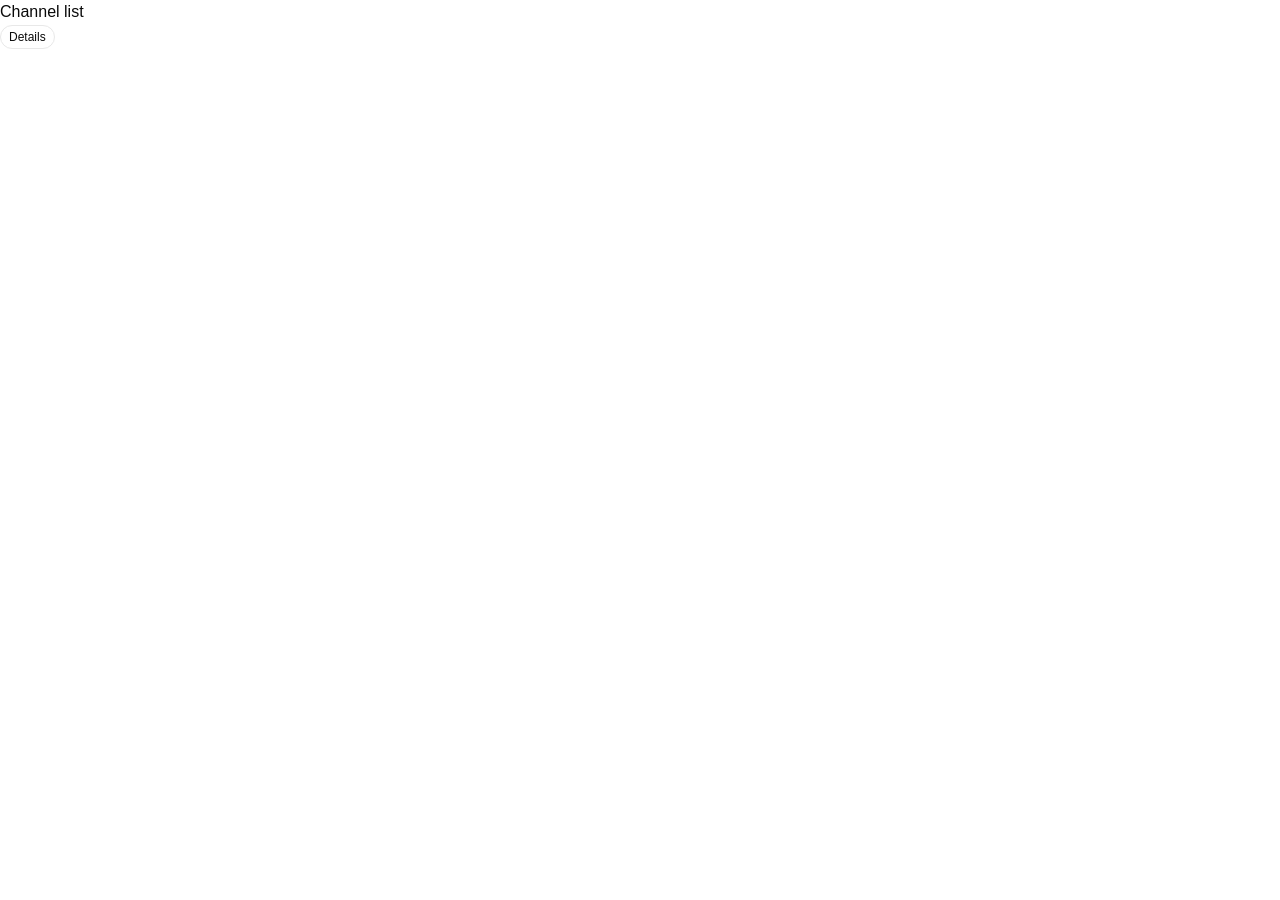
a channel shows its latest requests and opens the usage log filtered by it
Later steps or results of the test are not shown.
Expected: the heading "Channel list" is shown, x1=0 y1=3 x2=84 y2=20
Click the button with aria-label "Details of prod".
click(27, 37)  # box x1=0 y1=25 x2=55 y2=49
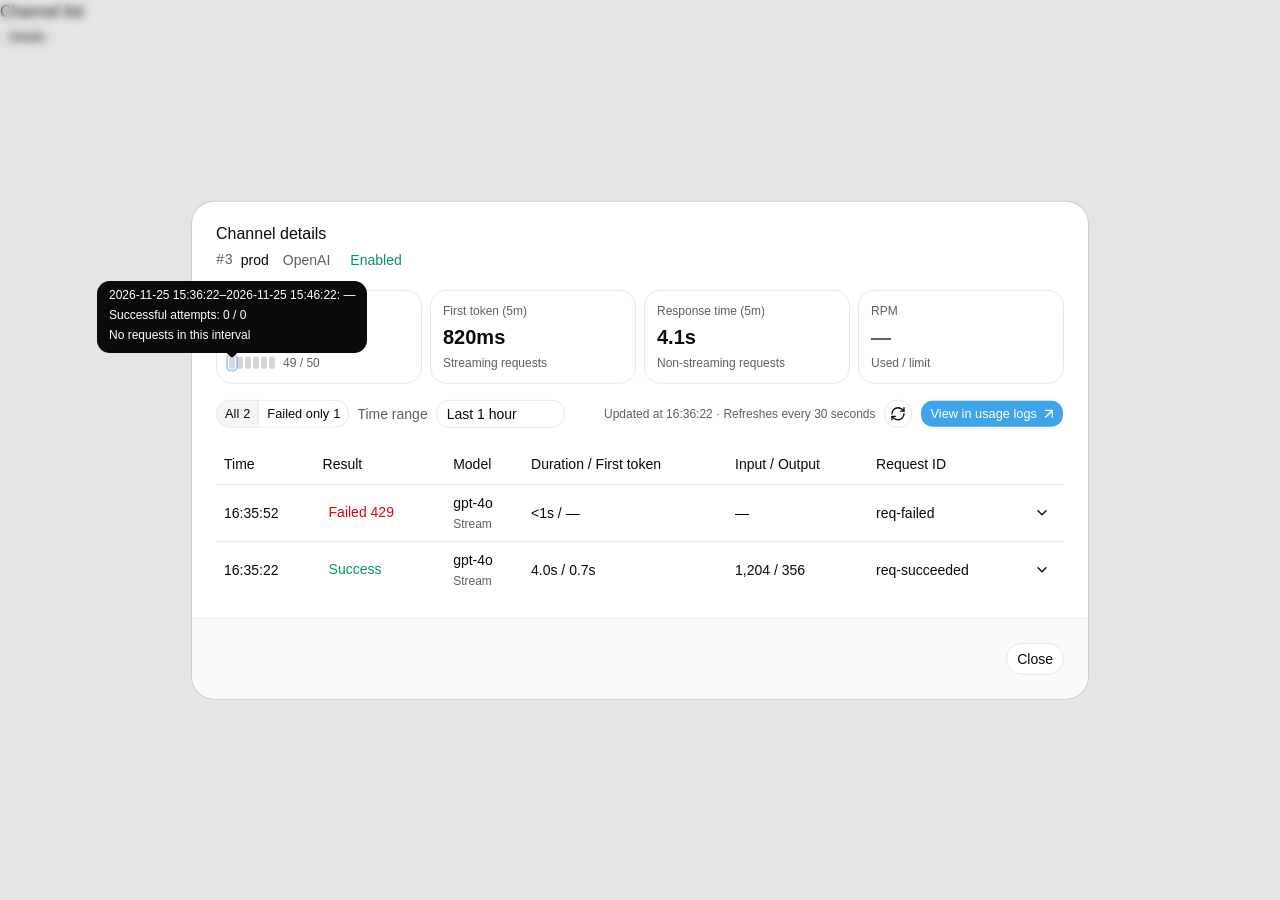
Expected: the text "prod" is shown, x1=241 y1=250 x2=269 y2=270
Expected: the text "98%" is shown, x1=229 y1=326 x2=269 y2=348
Expected: the text "820ms" is shown, x1=443 y1=326 x2=505 y2=348
Note: A failed request explains itself without leaving the page.
Click the button named "Show details" in the row of "16:35:52".
click(1042, 512)  # box x1=1028 y1=498 x2=1056 y2=526
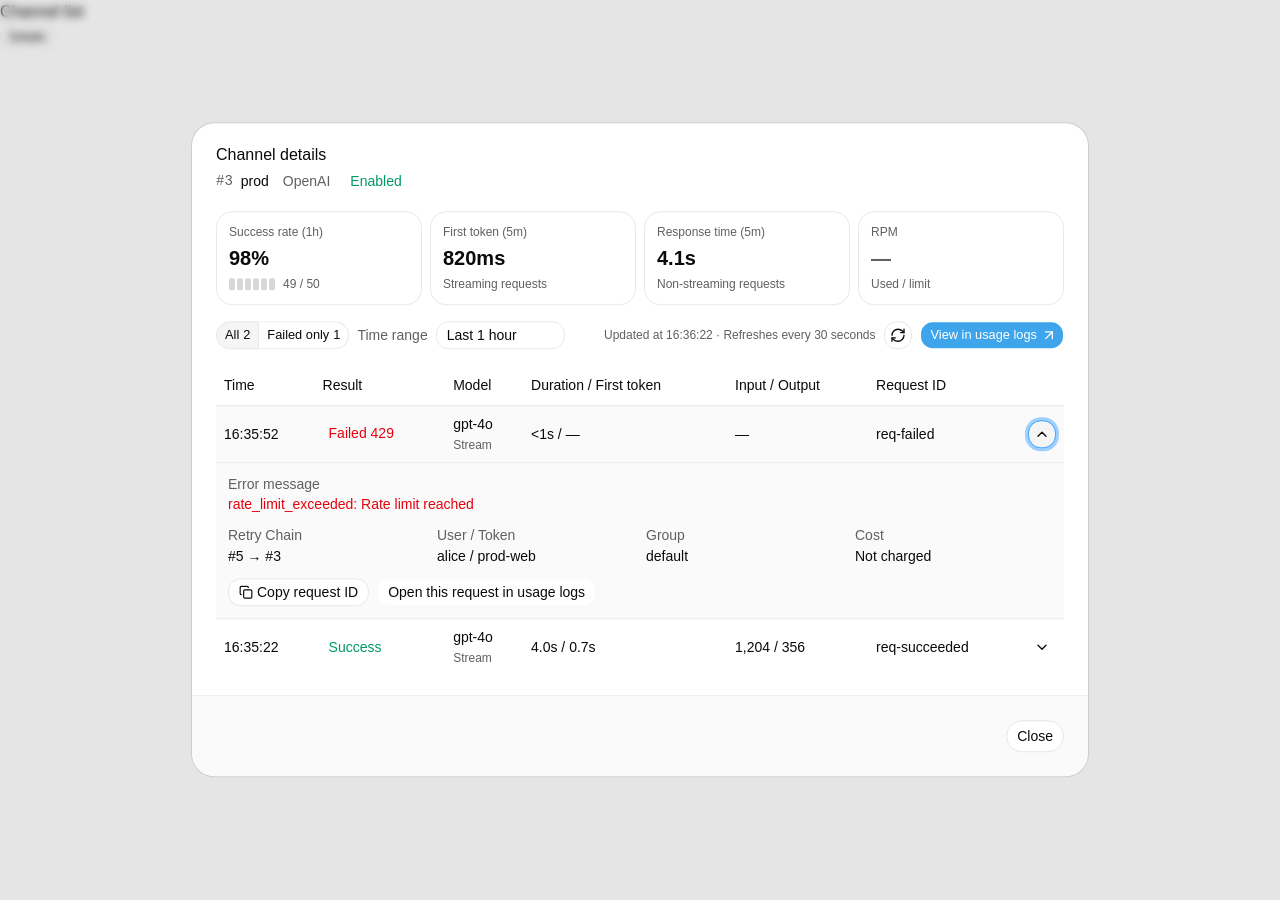
Expected: the text "rate_limit_exceeded: Rate limit reached" is shown, x1=228 y1=496 x2=474 y2=512
Expected: the text "#5 → #3" is shown, x1=228 y1=549 x2=281 y2=565
Expected: the text "alice / prod-web" is shown, x1=437 y1=549 x2=536 y2=565
Click the button named "Hide details".
click(1042, 434)  # box x1=1028 y1=420 x2=1056 y2=448
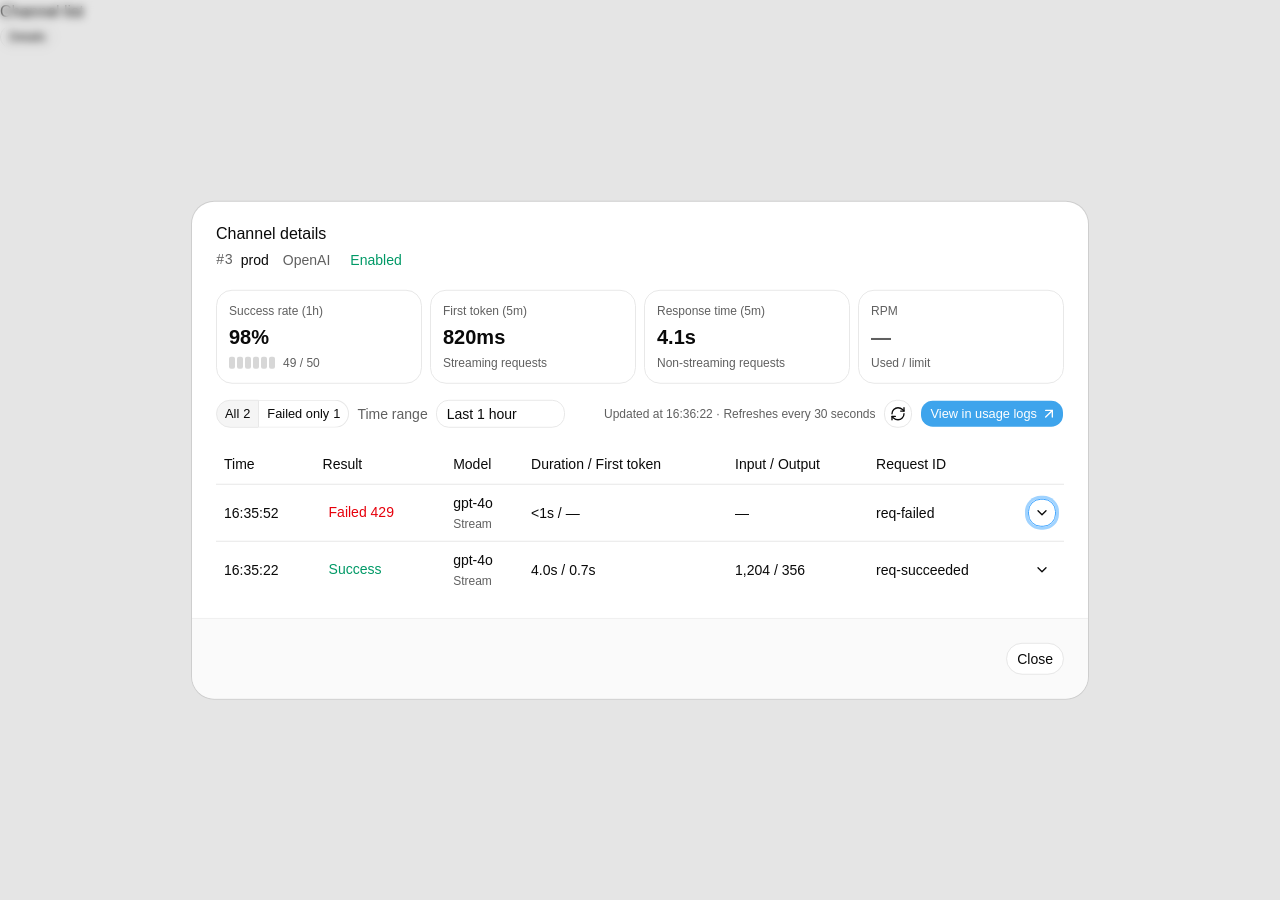
Expected: the text "#5 → #3" is gone
Note: Narrowing to failures reads nothing new.
Click the button "Failed only 1".
click(304, 414)  # box x1=259 y1=400 x2=349 y2=428
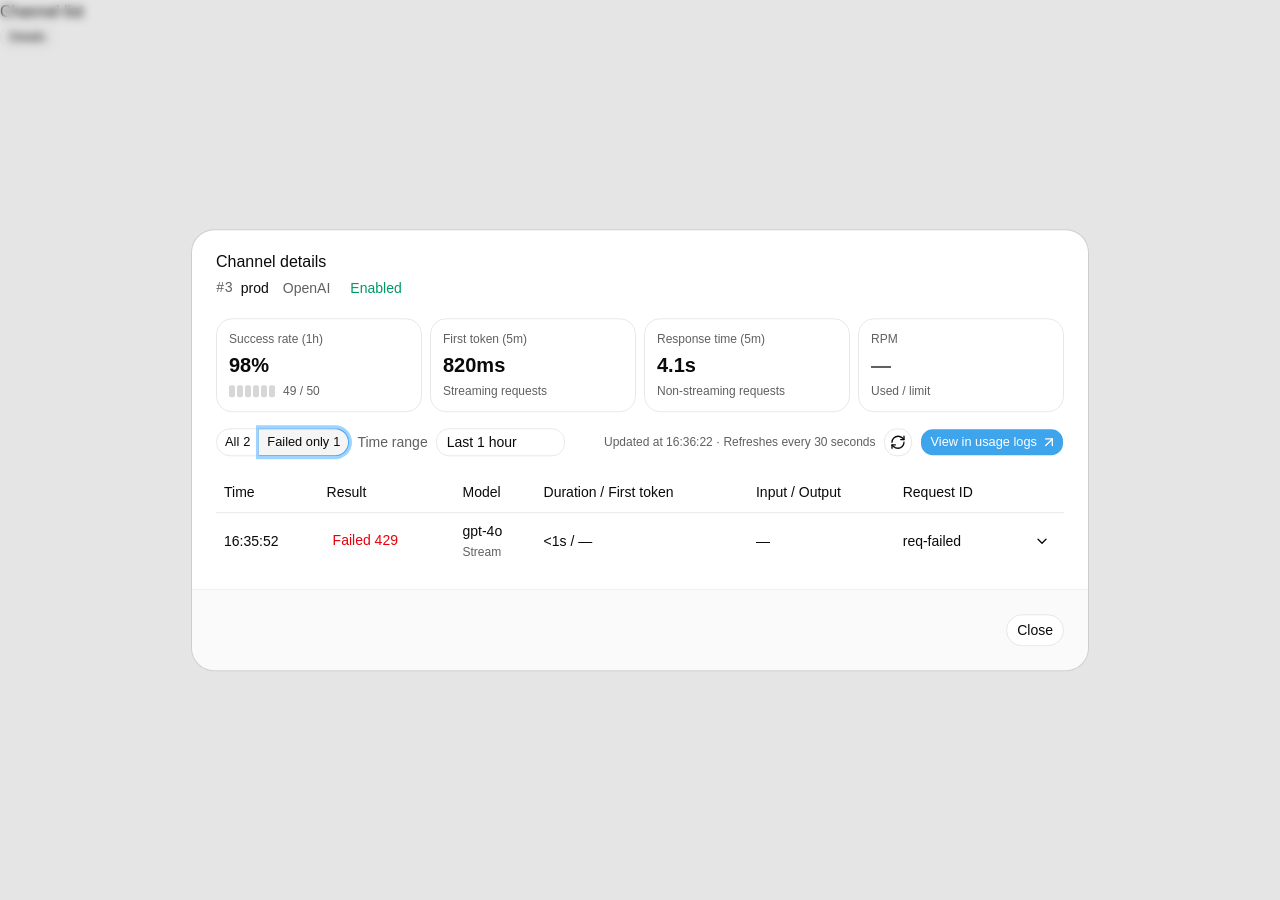
Expected: the text "req-succeeded" is gone
